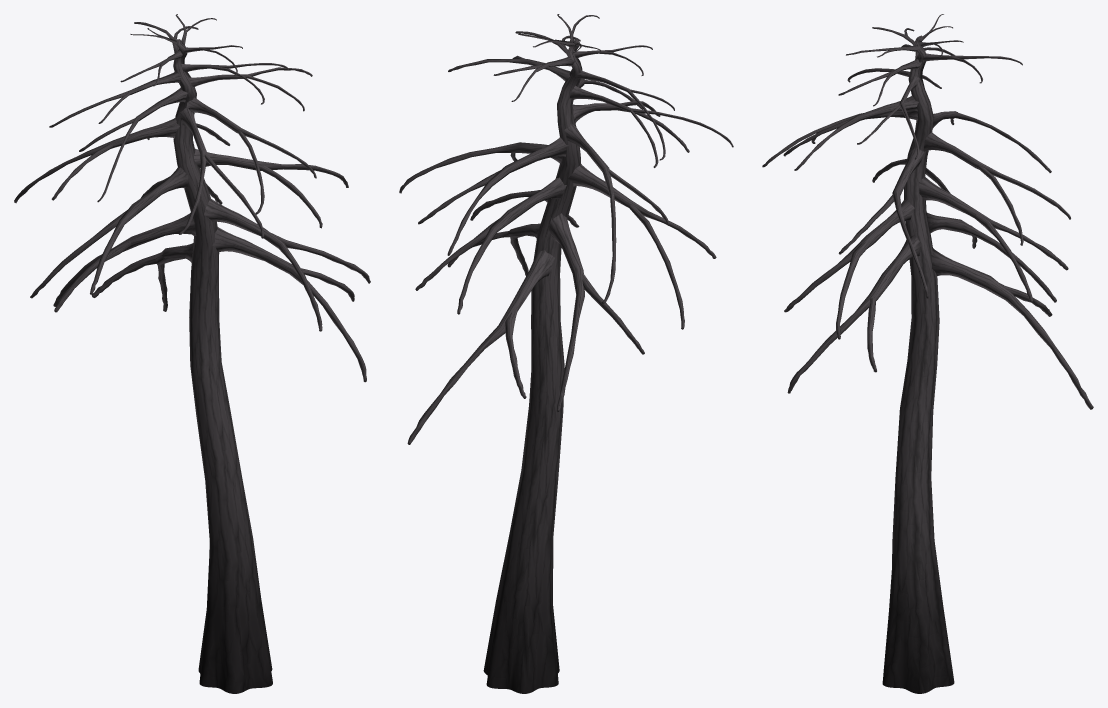
File: DeadTree_3.glb
The picture shows the model from 3 angles, left to right: view 1: azimuth 30°, elevation 25°; view 2: azimuth 150°, elevation 25°; view 3: azimuth 270°, elevation 25°; orthographic projection. The views are drawn at different scales.
Visible parts, largest first — view 1: DeadTree_3; view 2: DeadTree_3; view 3: DeadTree_3.
Boxes of the visible parts, x1,y1,x2,y2 form: DeadTree_3: (14,14,370,693); DeadTree_3: (399,14,733,693); DeadTree_3: (762,14,1093,693).
Size of the model in its own units: 6.39 by 13.28 by 6.43.
1 material, 1 textured.
